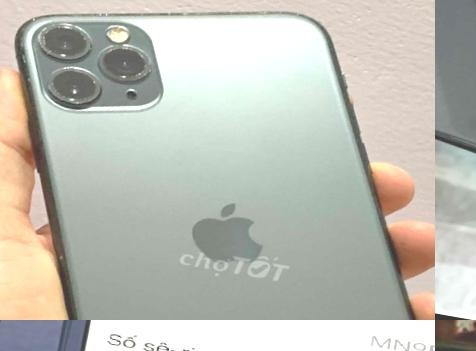scratch: (435, 7, 441, 23)
